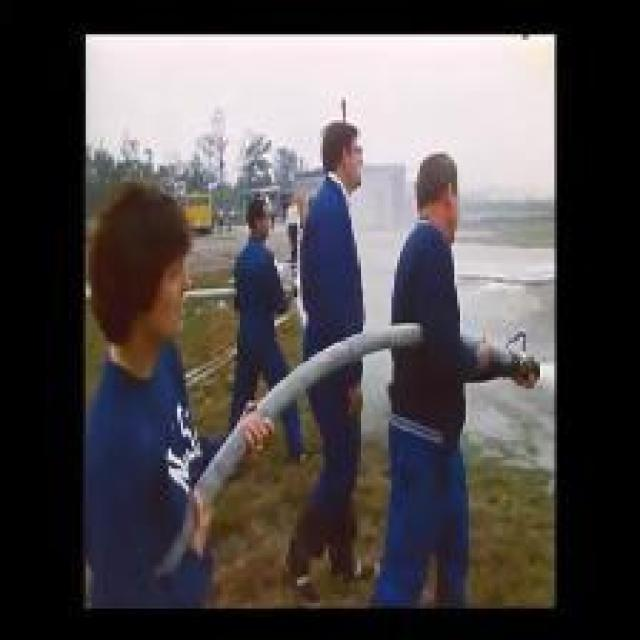other: (177, 190, 221, 238)
